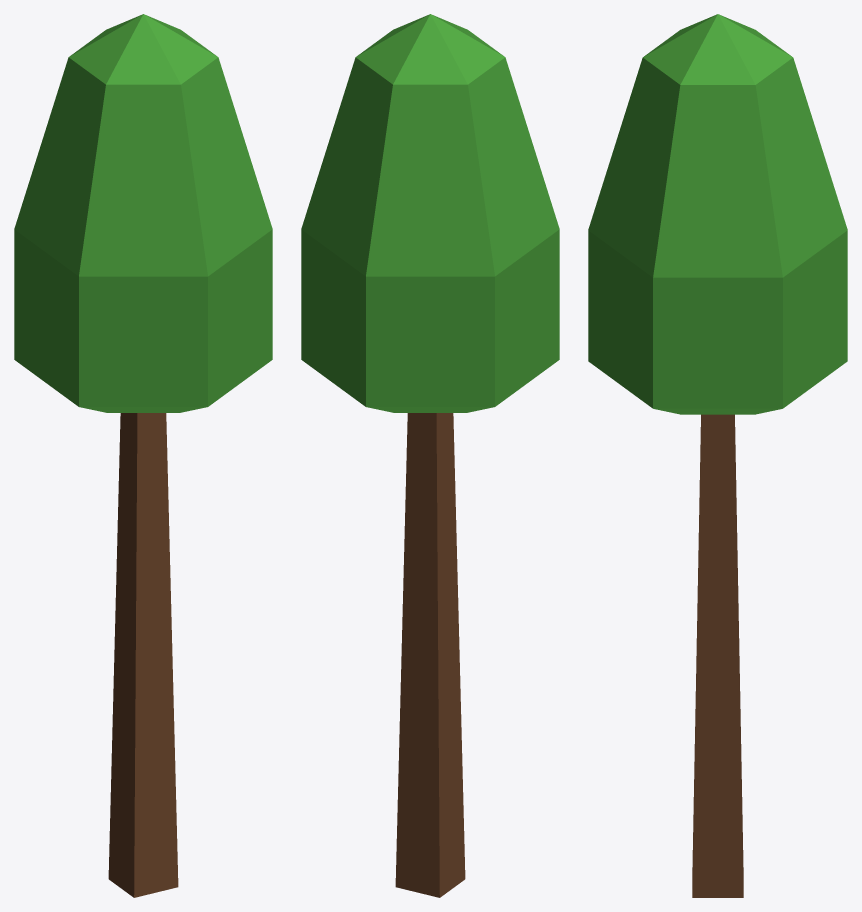
Rendered from halo_tree_simple.obj.
3 views of the same model, side by side, from view 1: azimuth 30°, elevation 25°; view 2: azimuth 150°, elevation 25°; view 3: azimuth 270°, elevation 25° (orthographic).
Visible parts, largest first — view 1: tree_simple; view 2: tree_simple; view 3: tree_simple.
Part boxes in pixels (x1=…): tree_simple: x1=14, y1=14, x2=272, y2=897; tree_simple: x1=301, y1=14, x2=559, y2=897; tree_simple: x1=588, y1=14, x2=847, y2=897.
Bounding box in the file's own units: 0.3546 × 1.52 × 0.4095.
